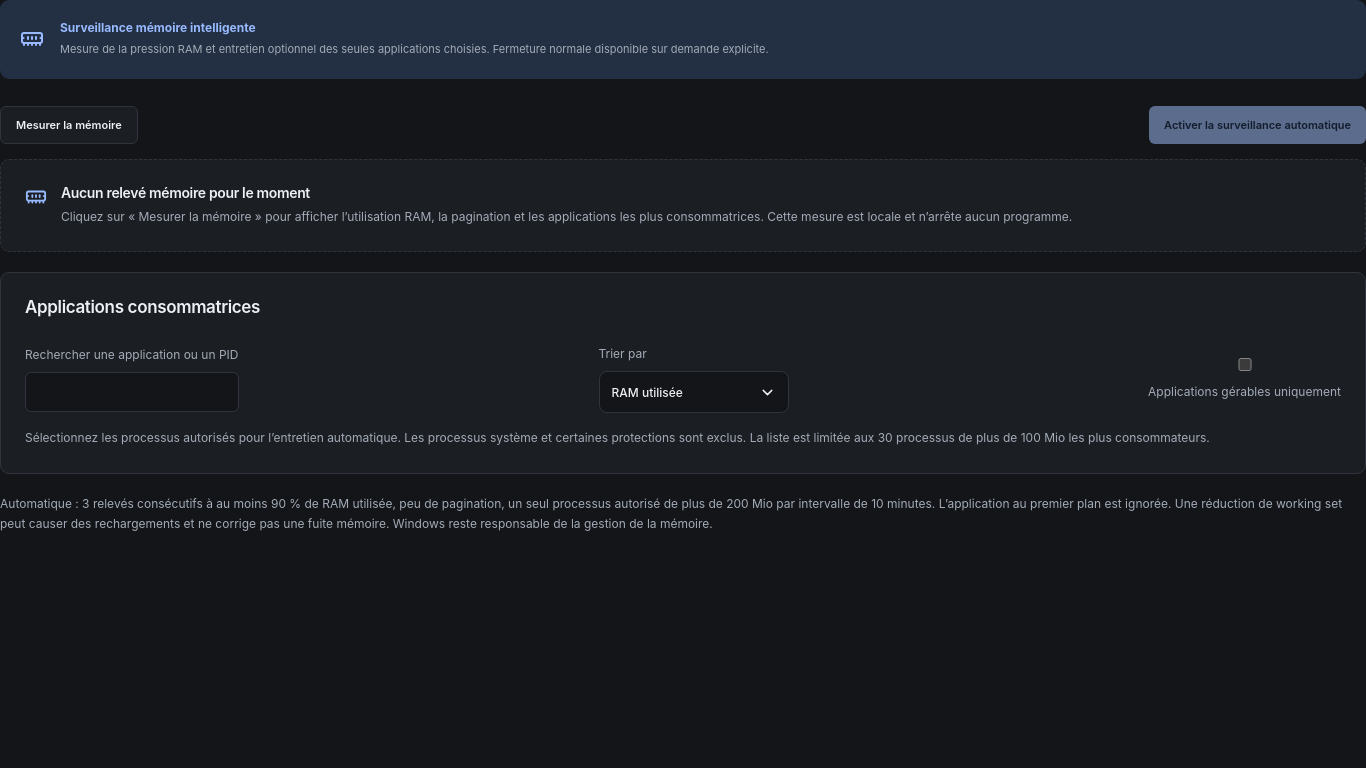
Test: allows automatic observation after a measurement before targets are selected
Click the button "Mesurer la mémoire": (69, 125) x1=0 y1=106 x2=138 y2=144
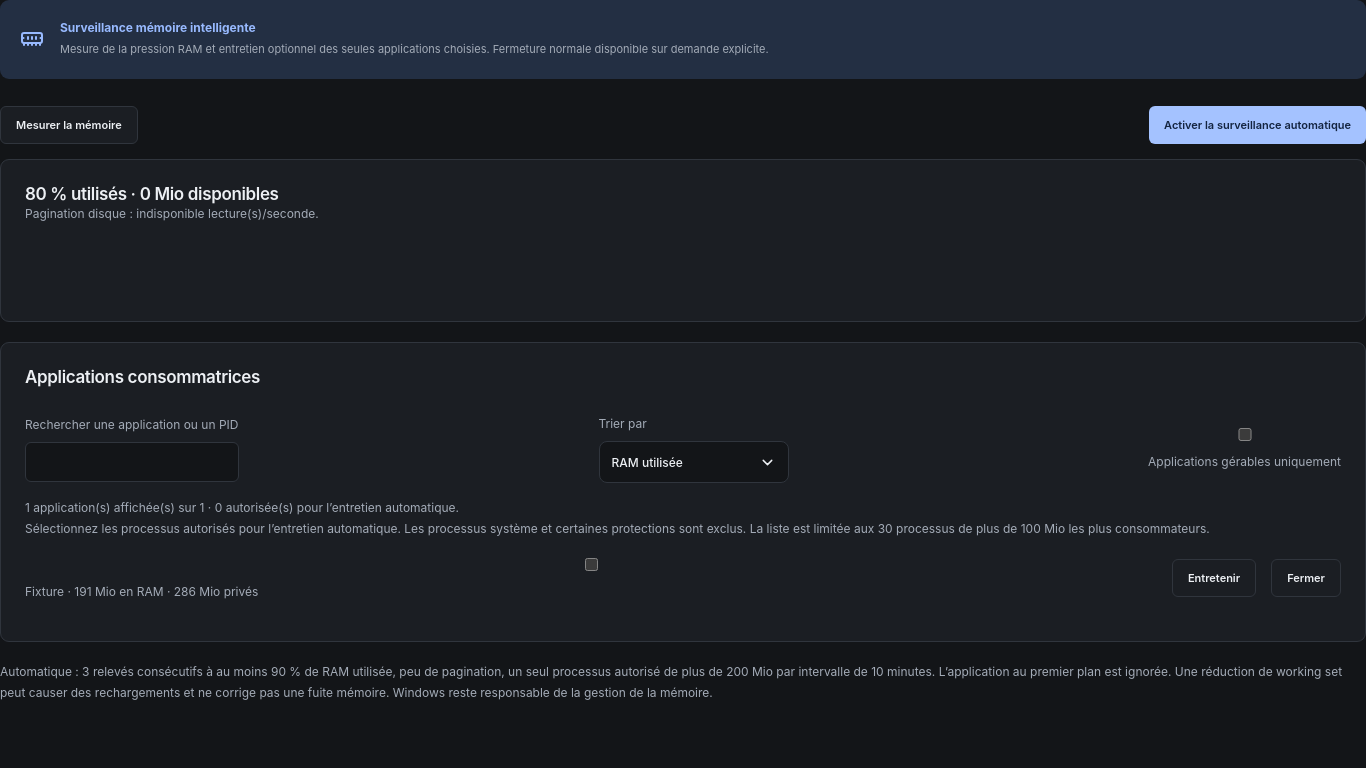
Expected: the button "Activer la surveillance automatique" is enabled
Click the button "Activer la surveillance automatique": (1258, 125) x1=1149 y1=106 x2=1365 y2=144
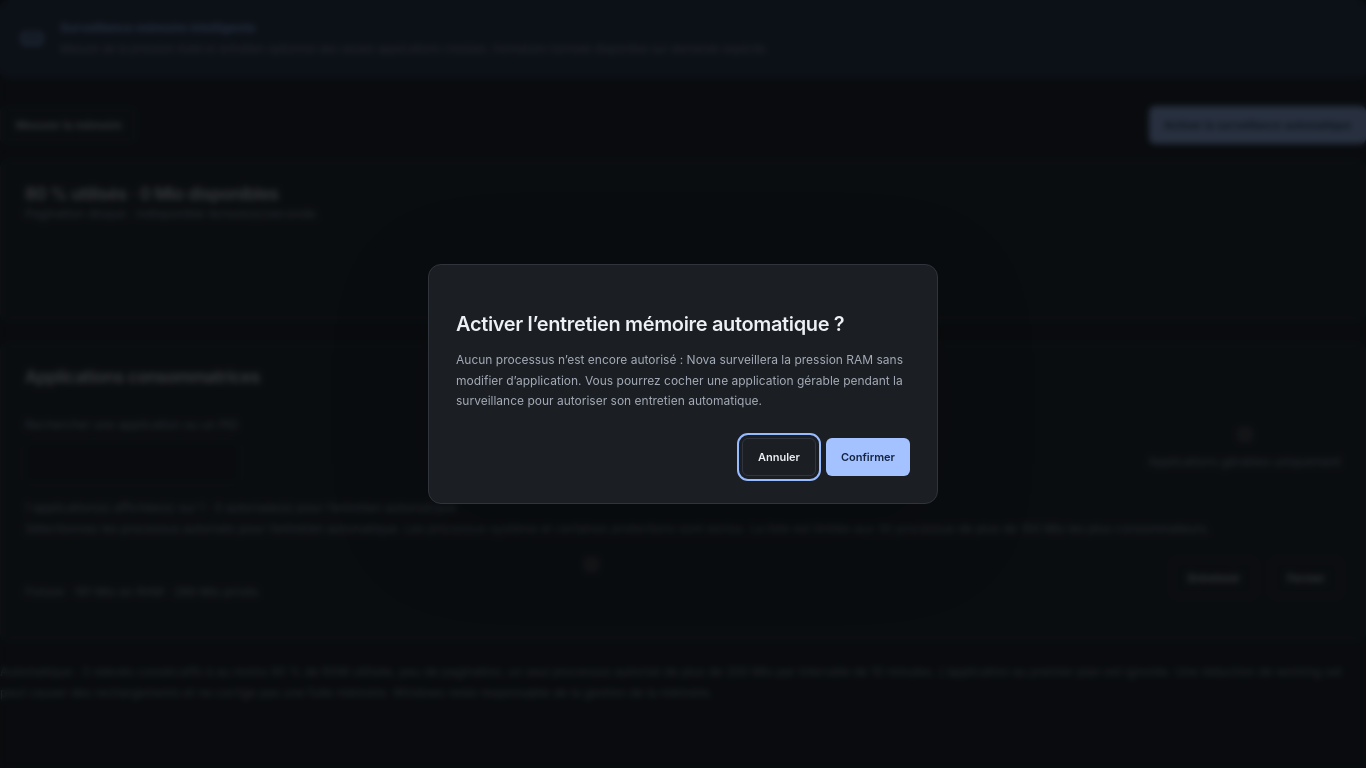
Expected: the dialog shows "Aucun processus n’est encore autorisé", x1=456 y1=352 x2=903 y2=408
